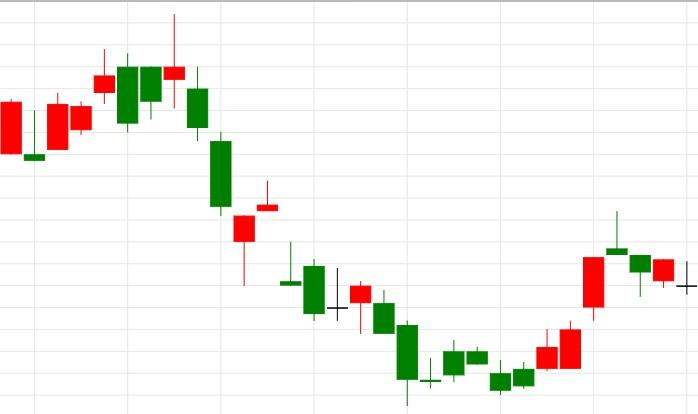evening_star_fall: (490, 212, 651, 395)
hammer_rise: (164, 15, 255, 286)
